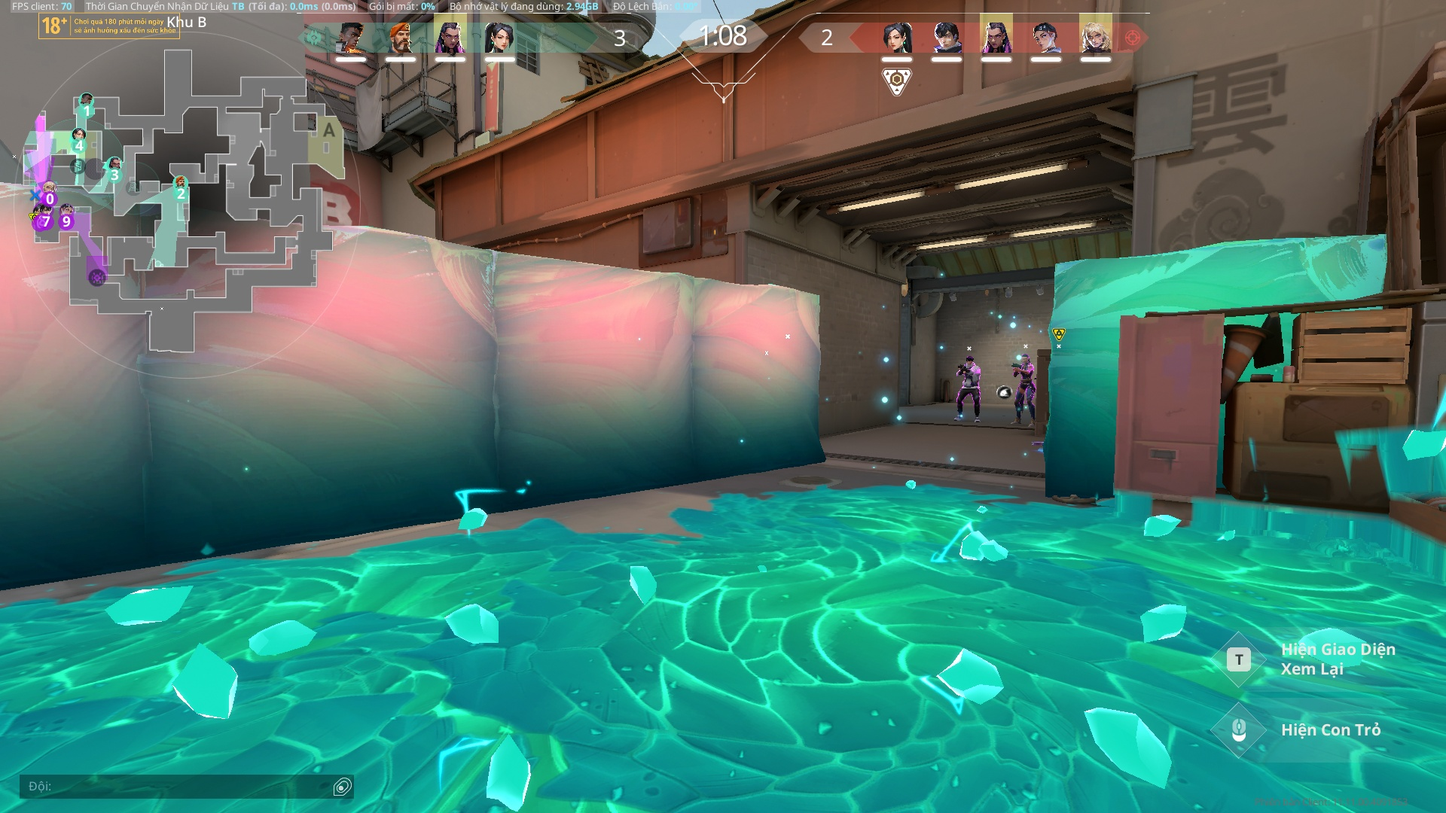body: (960, 363, 979, 388), (1017, 362, 1034, 385)
head: (1020, 354, 1030, 363), (965, 355, 972, 364)
